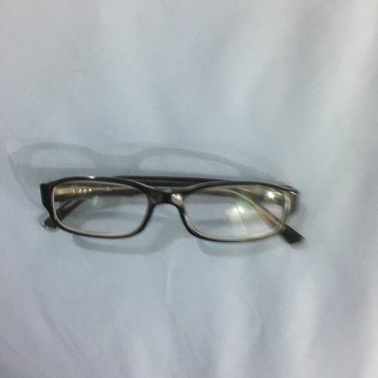glasses: (37, 172, 302, 252)
